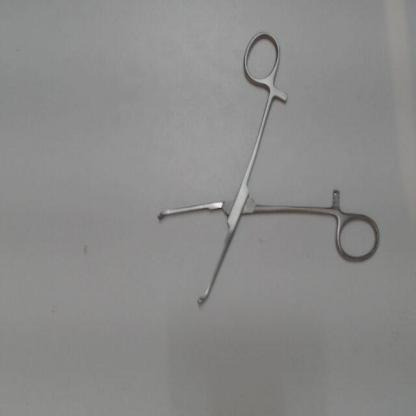Allis Tissue Forceps: (146, 26, 386, 317)
